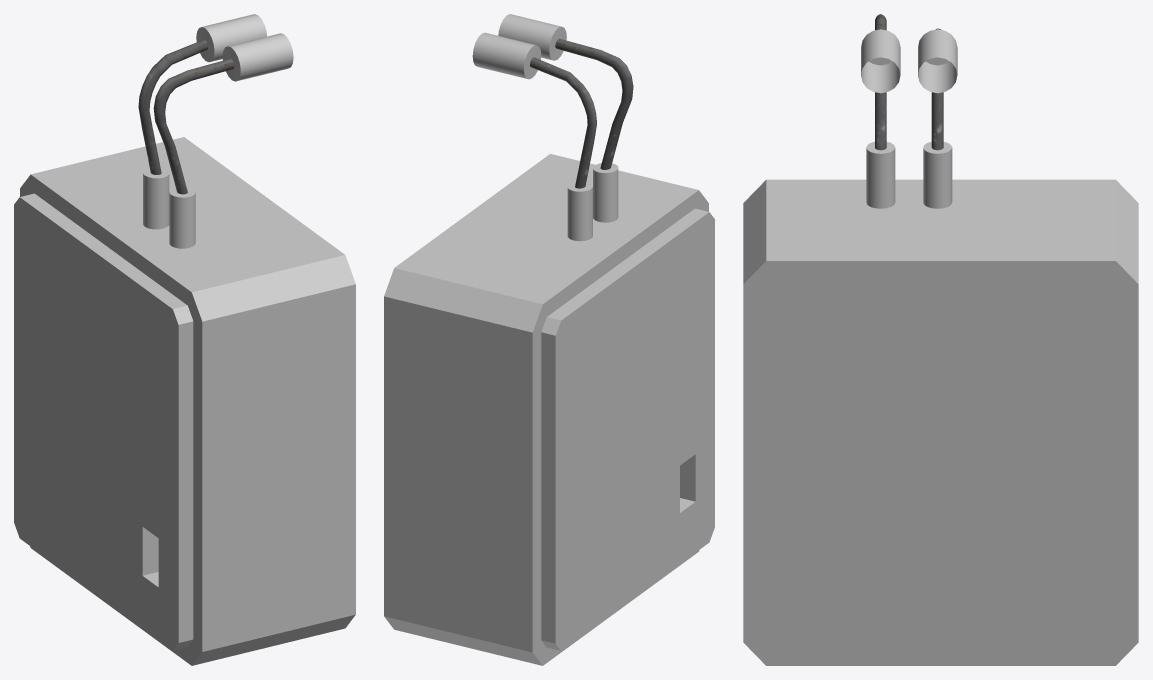
The model's file is Component_ElectroA_grp.fbx.
3 renders of one model, left to right at view 1: azimuth 30°, elevation 25°; view 2: azimuth 150°, elevation 25°; view 3: azimuth 270°, elevation 25°, orthographic. The views are drawn at different scales.
Visible parts, largest first — view 1: electroA_metalRust, electroA_metalB, electroA_metalC; view 2: electroA_metalRust, electroA_metalB, electroA_metalC; view 3: electroA_metalRust, electroA_metalB, electroA_metalC.
Boxes of the visible parts, x1,y1,x2,y2 form: electroA_metalRust: [14, 137, 355, 665]; electroA_metalB: [143, 14, 293, 248]; electroA_metalC: [138, 39, 234, 194]; electroA_metalRust: [384, 154, 714, 665]; electroA_metalB: [472, 14, 618, 241]; electroA_metalC: [530, 38, 633, 188]; electroA_metalRust: [743, 179, 1138, 665]; electroA_metalB: [861, 29, 957, 208]; electroA_metalC: [875, 14, 943, 150].
Size of the model in its own units: 41.66 by 132 by 78.05.
